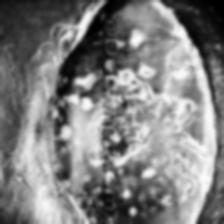Toxin: (118, 16, 212, 222)
